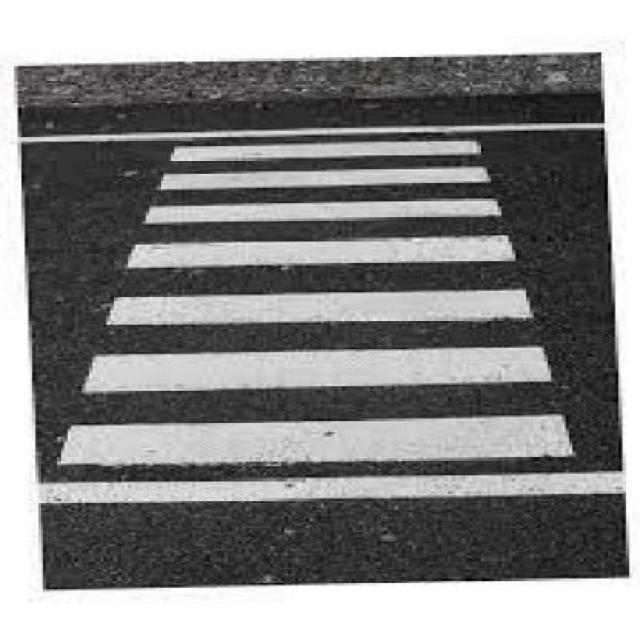crosswalk: (58, 141, 581, 472)
